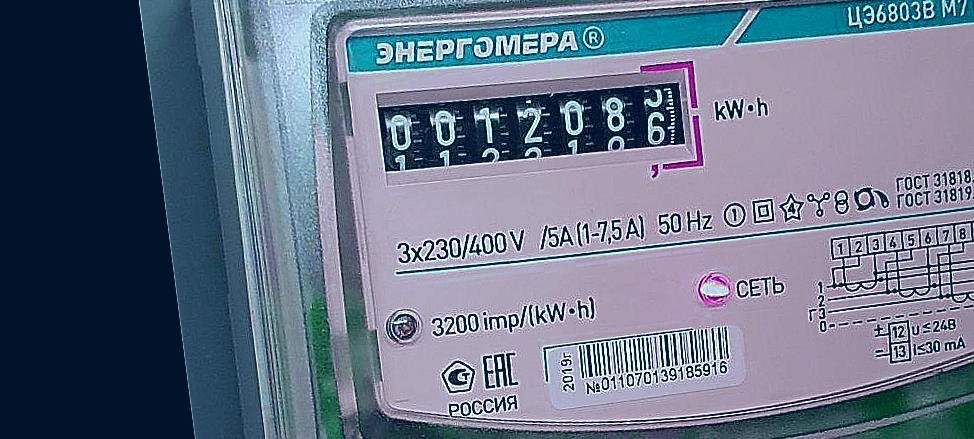0: (428, 104, 461, 149), (385, 108, 414, 153), (559, 96, 587, 138)
1: (473, 102, 500, 146)
2: (516, 103, 546, 145)
6: (640, 108, 668, 146)
8: (601, 92, 627, 134)
screen: (364, 38, 718, 219)
